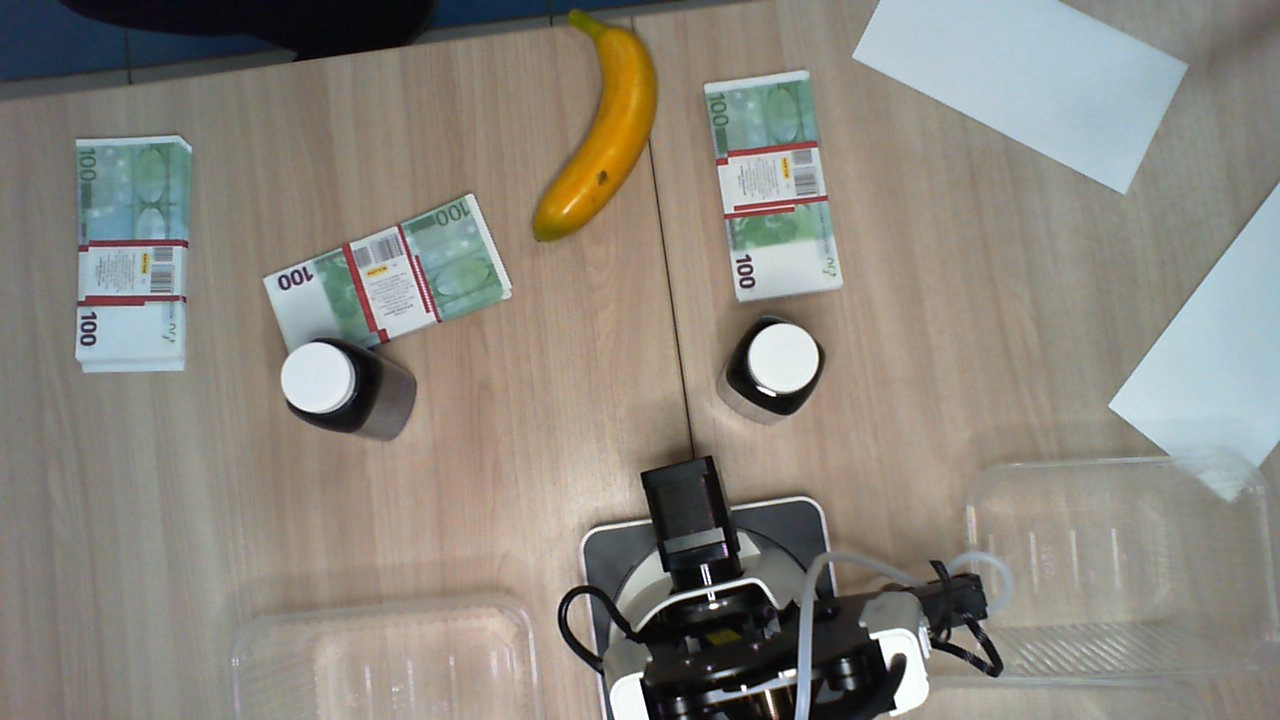banana: (531, 10, 657, 244)
bottle: (720, 309, 828, 418), (283, 331, 393, 430)
convert: (853, 5, 1188, 192), (1107, 180, 1280, 502)
money: (263, 190, 511, 367), (705, 68, 838, 301), (72, 129, 195, 373)
